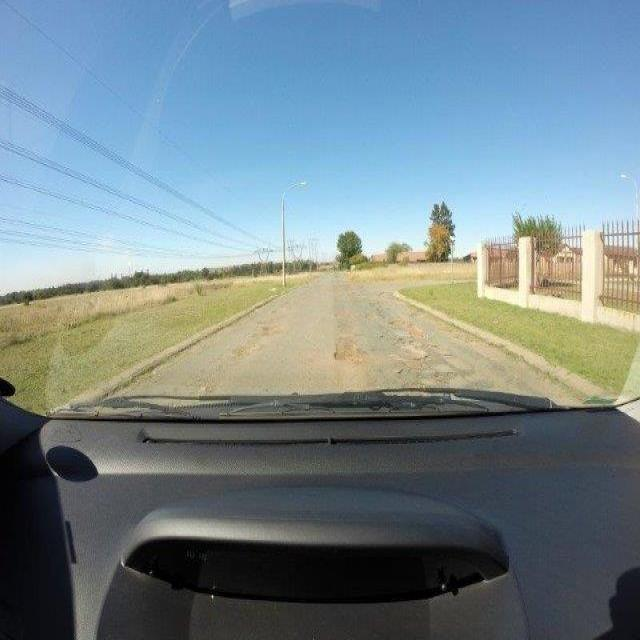jalan retak: (374, 285, 393, 306)
lubang: (330, 330, 373, 366), (240, 317, 282, 352), (393, 314, 429, 338), (397, 350, 431, 374), (456, 364, 491, 386), (428, 361, 458, 386), (362, 306, 388, 324), (442, 354, 456, 360)
